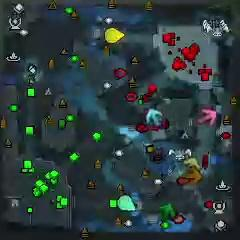p2: (117, 194, 136, 211)
p4: (104, 28, 125, 43)
x1: (199, 109, 217, 127)
x2: (183, 156, 200, 170)
x3: (145, 108, 162, 128)
x4: (159, 203, 175, 223)
x5: (185, 166, 201, 183)
